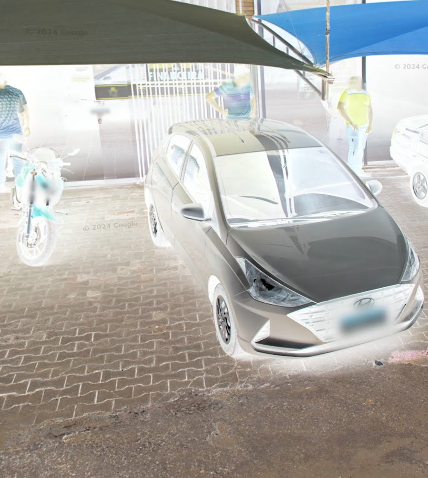car: (137, 110, 428, 370)
